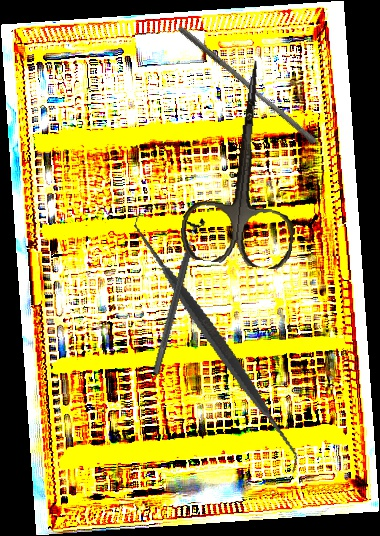Fixation Ring: (143, 213, 208, 378)
Iris Scissors: (177, 53, 315, 272)
Pusher: (172, 24, 322, 146)
Spatula Surgical: (83, 211, 350, 474)
